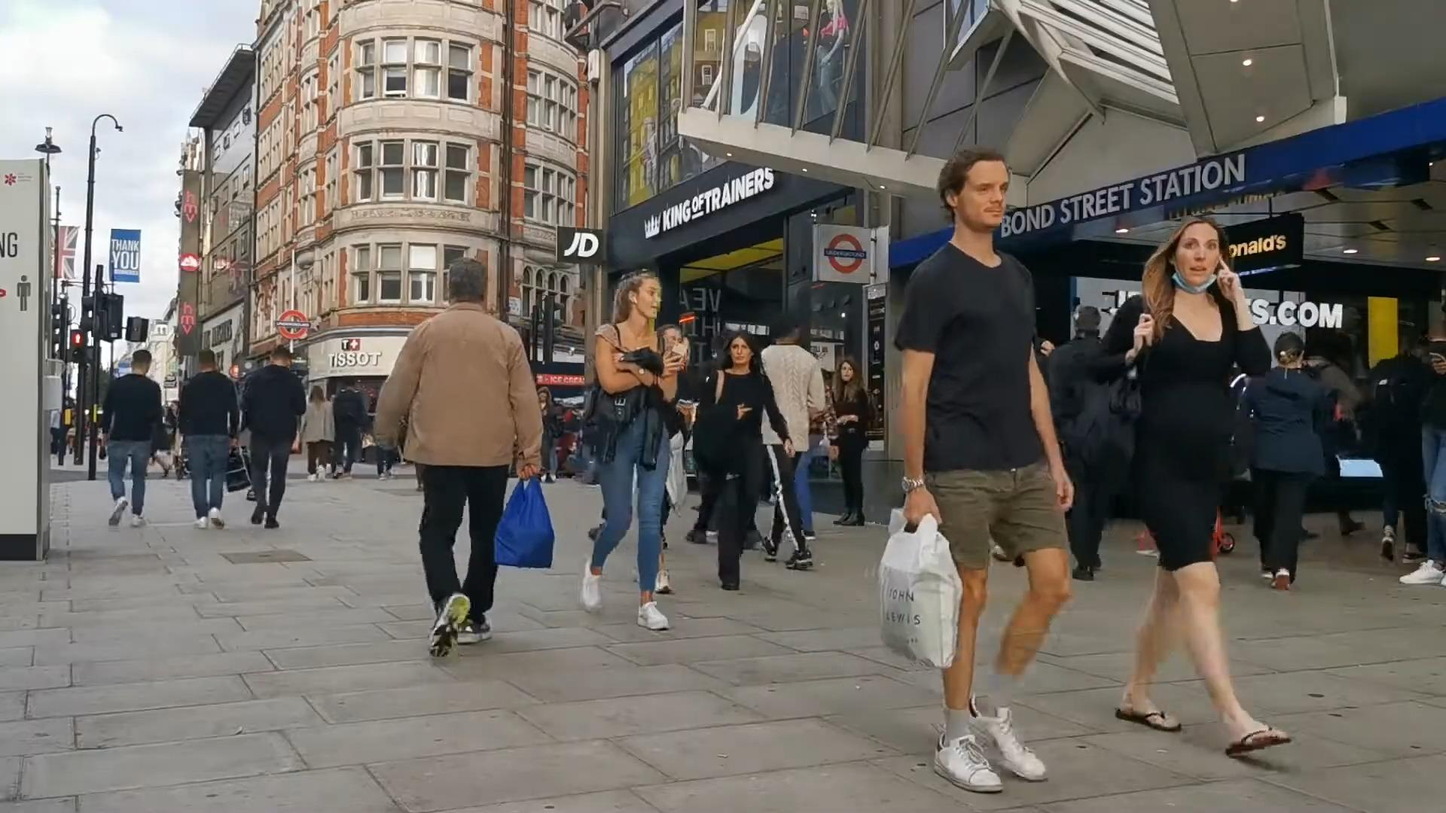no-helmet: (937, 145, 1011, 230), (1153, 216, 1229, 294), (613, 272, 663, 320), (449, 257, 487, 306), (721, 331, 760, 365), (1273, 331, 1304, 368), (832, 357, 859, 382), (131, 350, 152, 375), (269, 344, 290, 367), (198, 349, 215, 371)
